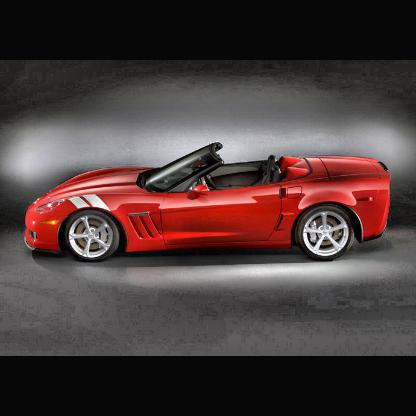Chevrolet Corvette Convertible 2012: (25, 143, 392, 264)
